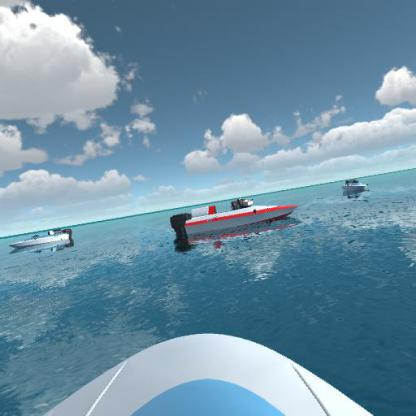usv1: (8, 222, 76, 255), (340, 175, 370, 198)
usv3: (170, 199, 304, 243), (226, 190, 256, 209)
